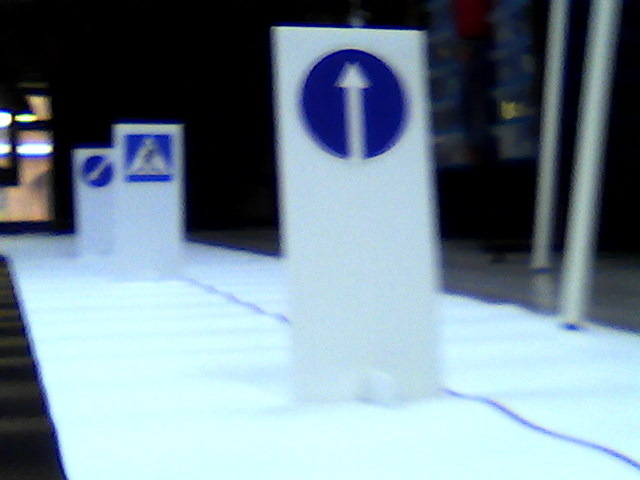forw: (302, 45, 407, 164)
pesh: (122, 131, 176, 183)
prep: (81, 155, 114, 188)
